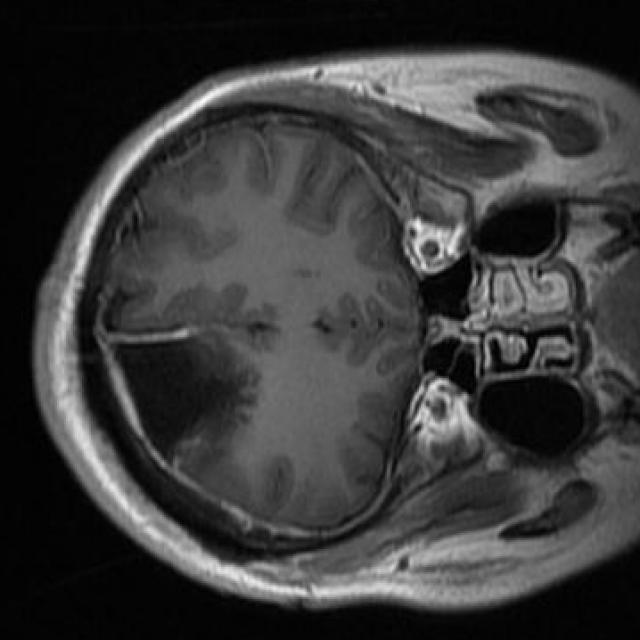glioma: (112, 335, 262, 469)
